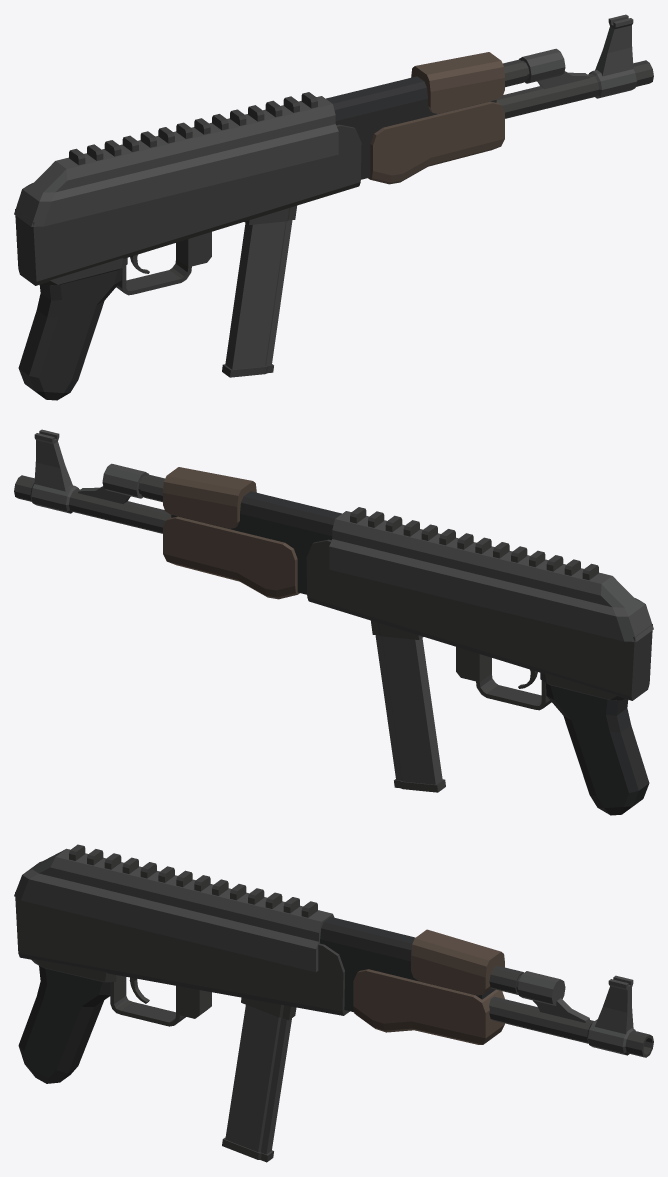
Rendered from AssaultRifle_1.glb.
The picture shows the model from 3 angles, top to bottom: view 1: azimuth 30°, elevation 25°; view 2: azimuth 150°, elevation 25°; view 3: azimuth 330°, elevation 25°; orthographic projection.
Parts seen in each view (by area): view 1: AssaultRifle_1; view 2: AssaultRifle_1; view 3: AssaultRifle_1.
Boxes of the visible parts, x1,y1,x2,y2 form: AssaultRifle_1: (14, 14, 653, 400); AssaultRifle_1: (14, 429, 653, 815); AssaultRifle_1: (14, 844, 653, 1162).
Size of the model in its own units: 3.1 by 1.26 by 0.196.
